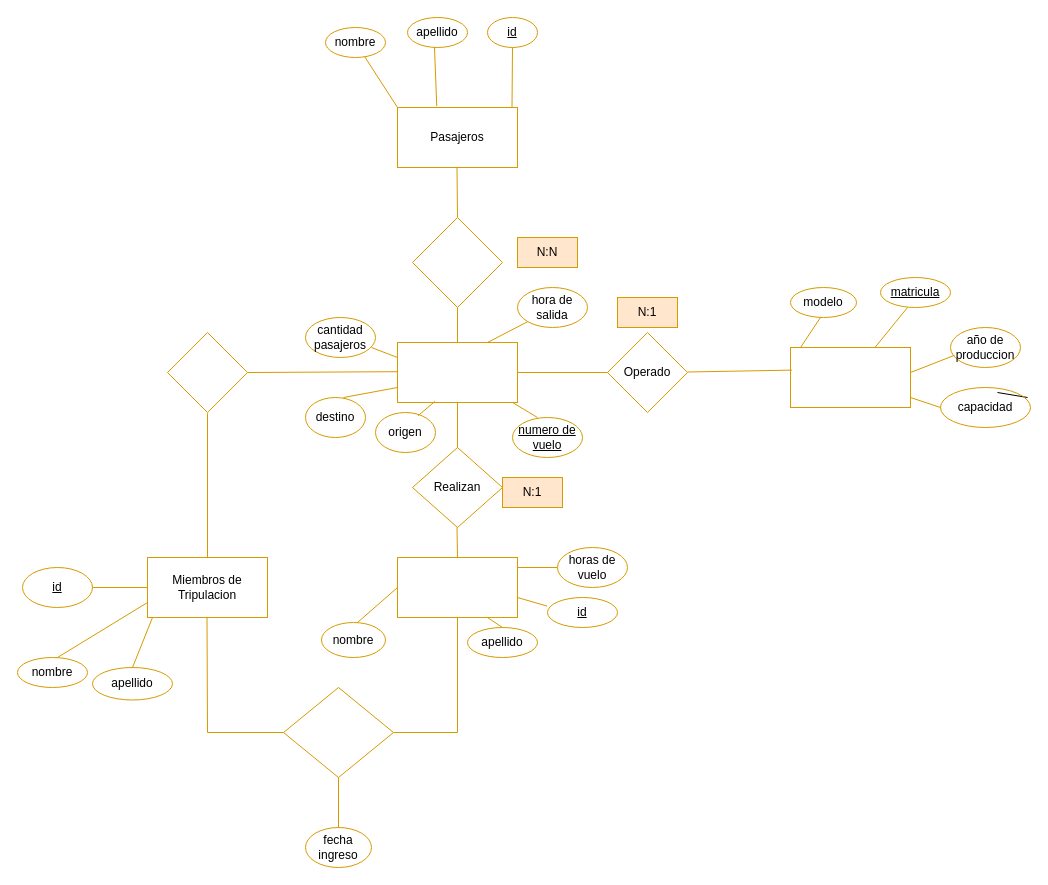
The diagram is 1048 pixels wide and 885 high, and some of its shapes have lost their labels. Here are the shapes that lost their labels. From the top down, the centre of each, then its label:
At (457,262): "Transportan".
At (207,372): "Participan".
At (457,372): "Vuelos".
At (850,377): "Aviones".
At (457,587): "Pilotos".
At (338,732): "IngresoTripulacion".
